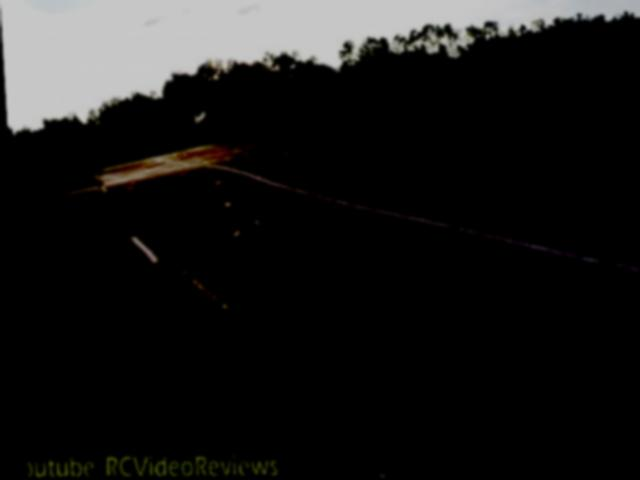uav: (175, 106, 228, 136)
